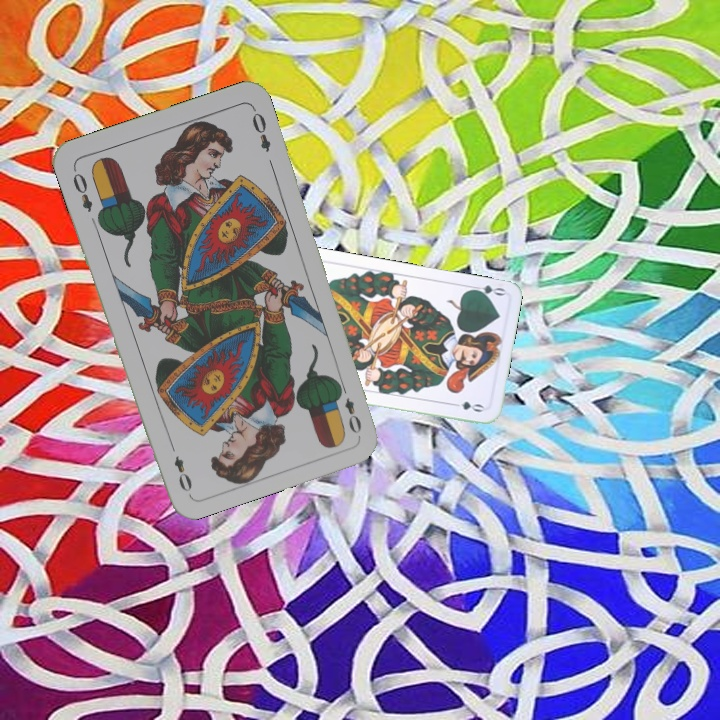EO: (335, 380, 364, 437), (68, 164, 95, 215)
GO: (466, 281, 507, 300)
